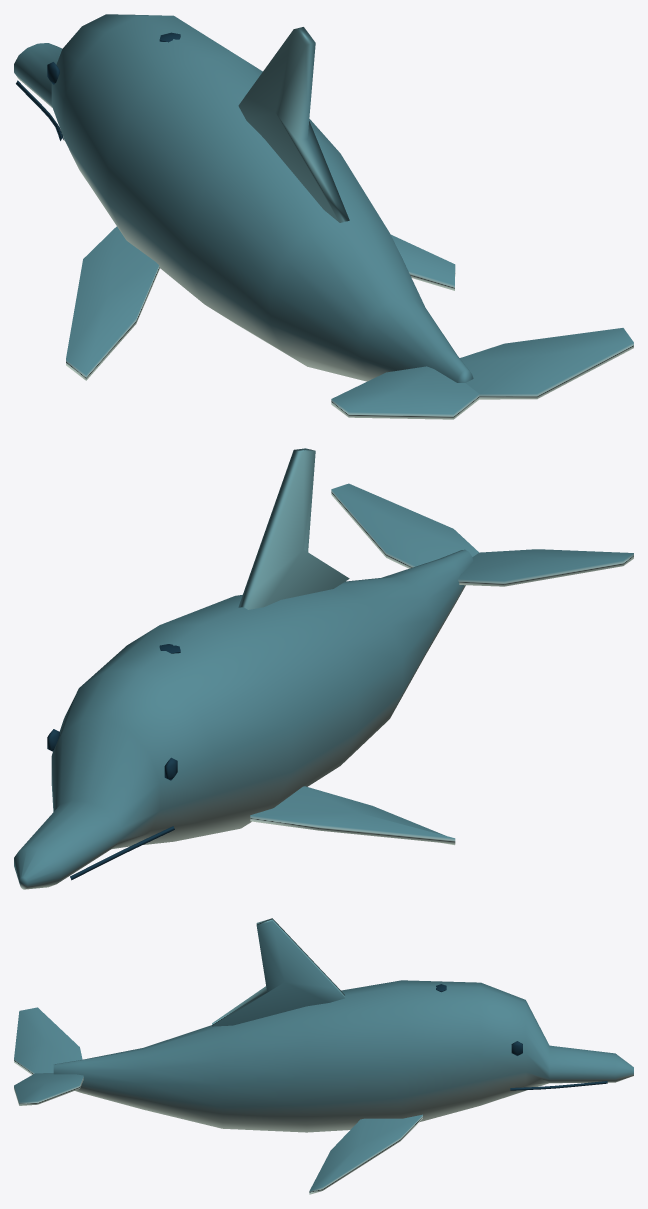
The model's file is dolphin.glb.
3 renders of one model, top to bottom at view 1: azimuth 30°, elevation 25°; view 2: azimuth 150°, elevation 25°; view 3: azimuth 270°, elevation 25°, orthographic. The views are drawn at different scales.
Parts seen in each view (by area): view 1: body_surface, anim_tail_surface, anim_flipper_L_surface, anim_flipper_R_surface; view 2: body_surface, anim_tail_surface, anim_flipper_L_surface; view 3: body_surface, anim_tail_surface, anim_flipper_R_surface.
Boxes of the visible parts, left/top/right/bottom form: body_surface: left=14, top=14, right=473, bottom=382; anim_tail_surface: left=331, top=328, right=633, bottom=419; anim_flipper_L_surface: left=66, top=226, right=159, bottom=380; anim_flipper_R_surface: left=390, top=234, right=455, bottom=290; body_surface: left=14, top=448, right=473, bottom=889; anim_tail_surface: left=331, top=483, right=633, bottom=586; anim_flipper_L_surface: left=250, top=786, right=455, bottom=845; body_surface: left=53, top=918, right=633, bottom=1132; anim_tail_surface: left=14, top=1007, right=83, bottom=1105; anim_flipper_R_surface: left=309, top=1114, right=422, bottom=1194.
Size of the model in its own units: 1.14 by 0.9224 by 2.4.
